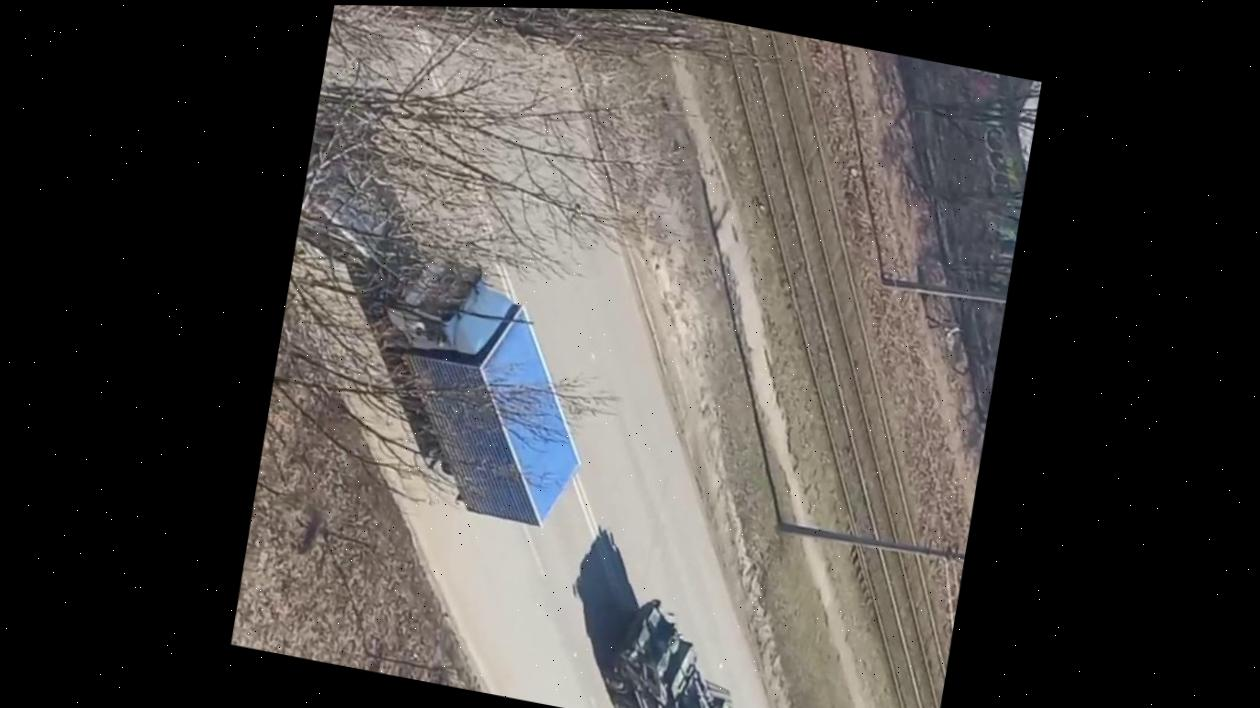tank: (593, 589, 754, 708)
truck: (343, 244, 612, 535)
